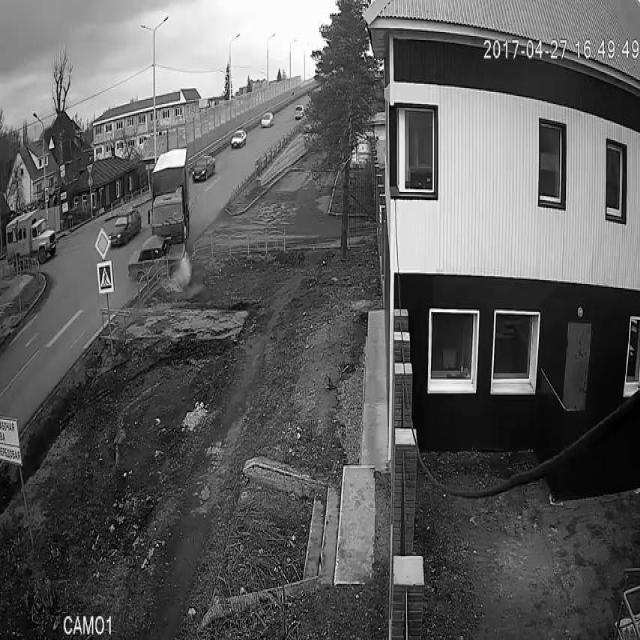accident: (128, 141, 193, 287)
